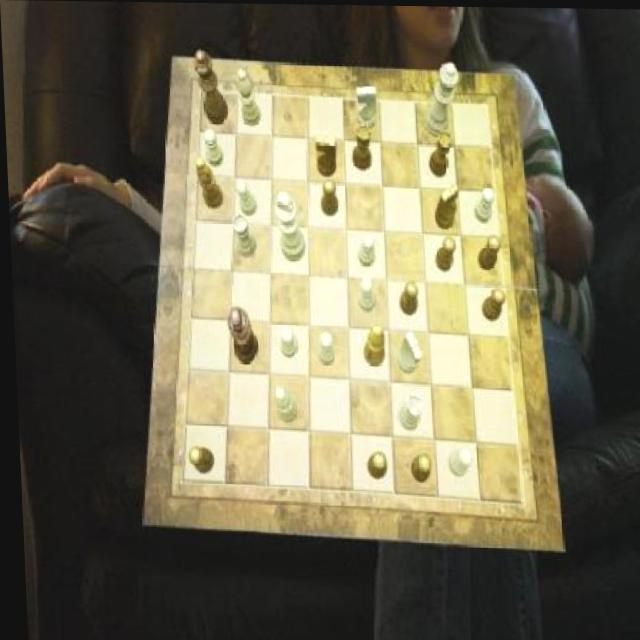bishop: (193, 156, 221, 209), (359, 322, 383, 365)
black-bishop: (224, 306, 256, 364)
black-king: (432, 182, 459, 228), (313, 134, 336, 176)
black-knight: (478, 287, 504, 321), (475, 233, 500, 268), (431, 234, 452, 269), (183, 447, 209, 474), (395, 280, 415, 314), (319, 179, 337, 215), (407, 454, 428, 482), (362, 450, 383, 478)
black-pawn: (192, 50, 227, 125)
black-queen: (426, 129, 452, 176), (349, 123, 370, 170)
black-rook: (235, 67, 260, 125), (270, 387, 295, 424)
white-bishop: (273, 191, 303, 262)
white-king: (393, 329, 419, 372), (354, 82, 377, 128)
white-knight: (471, 185, 492, 222), (232, 178, 253, 214), (443, 448, 469, 476), (202, 129, 221, 167), (354, 277, 372, 313), (355, 233, 374, 266), (314, 331, 332, 365), (277, 326, 295, 357)
white-pawn: (421, 60, 460, 135)
white-queen: (230, 213, 255, 257), (394, 394, 420, 430)
